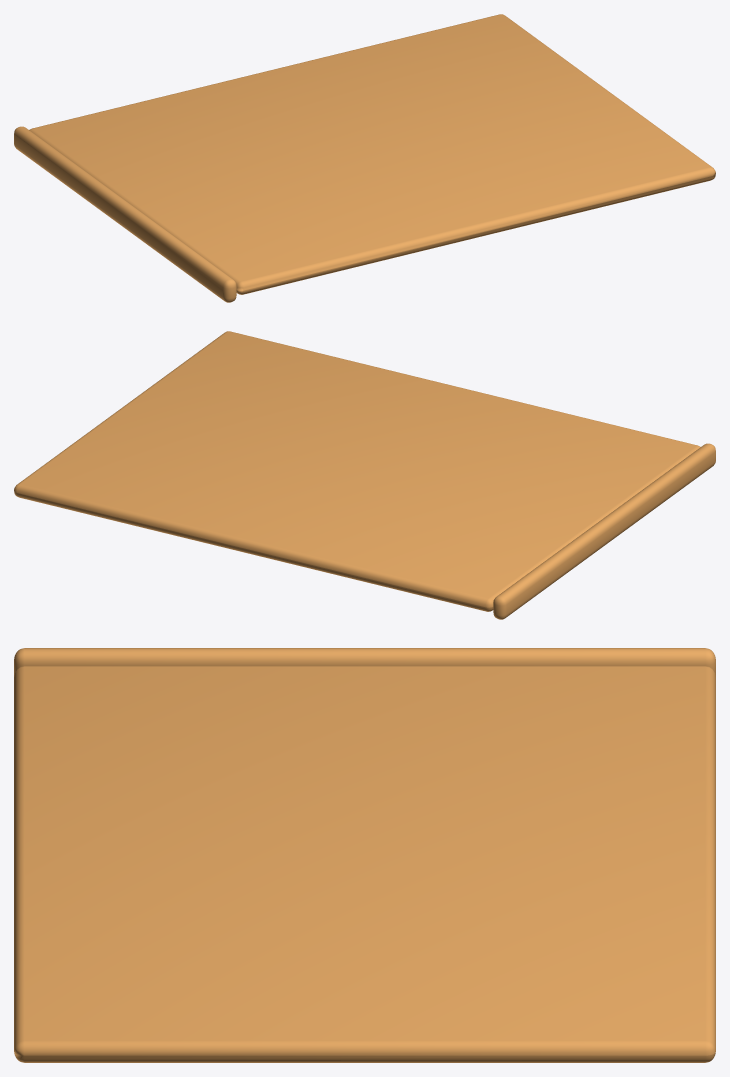
Rendered from torontoDeskSlide.fbx.
3 renders of one model, top to bottom at view 1: azimuth 30°, elevation 25°; view 2: azimuth 150°, elevation 25°; view 3: azimuth 270°, elevation 25°, orthographic. The views are drawn at different scales.
Visible parts, largest first — view 1: torontoDeskSlide; view 2: torontoDeskSlide; view 3: torontoDeskSlide.
Boxes of the visible parts, x1,y1,x2,y2 form: torontoDeskSlide: [14, 14, 715, 302]; torontoDeskSlide: [14, 331, 715, 619]; torontoDeskSlide: [14, 648, 715, 1062].
Bounding box in the file's own units: 448 × 19.59 × 338.
